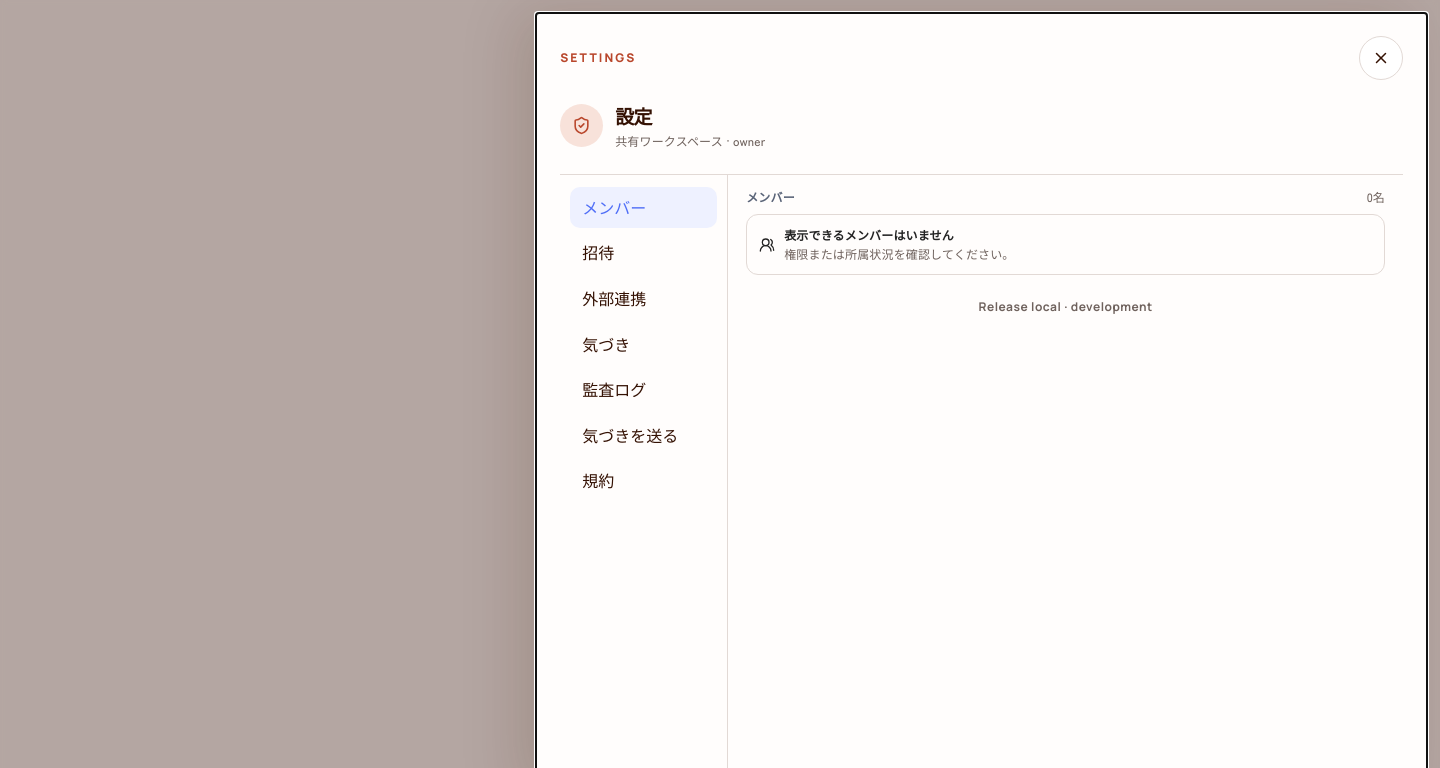
Test case: OperationsPanel stopped integration credentials › tells an owner that a credential stopped because its issuer lost its role
What coordinates should you click on to do the following:
click the button "外部連携"
I would click on:
 (644, 299)
Its box is [570,278,717,320].
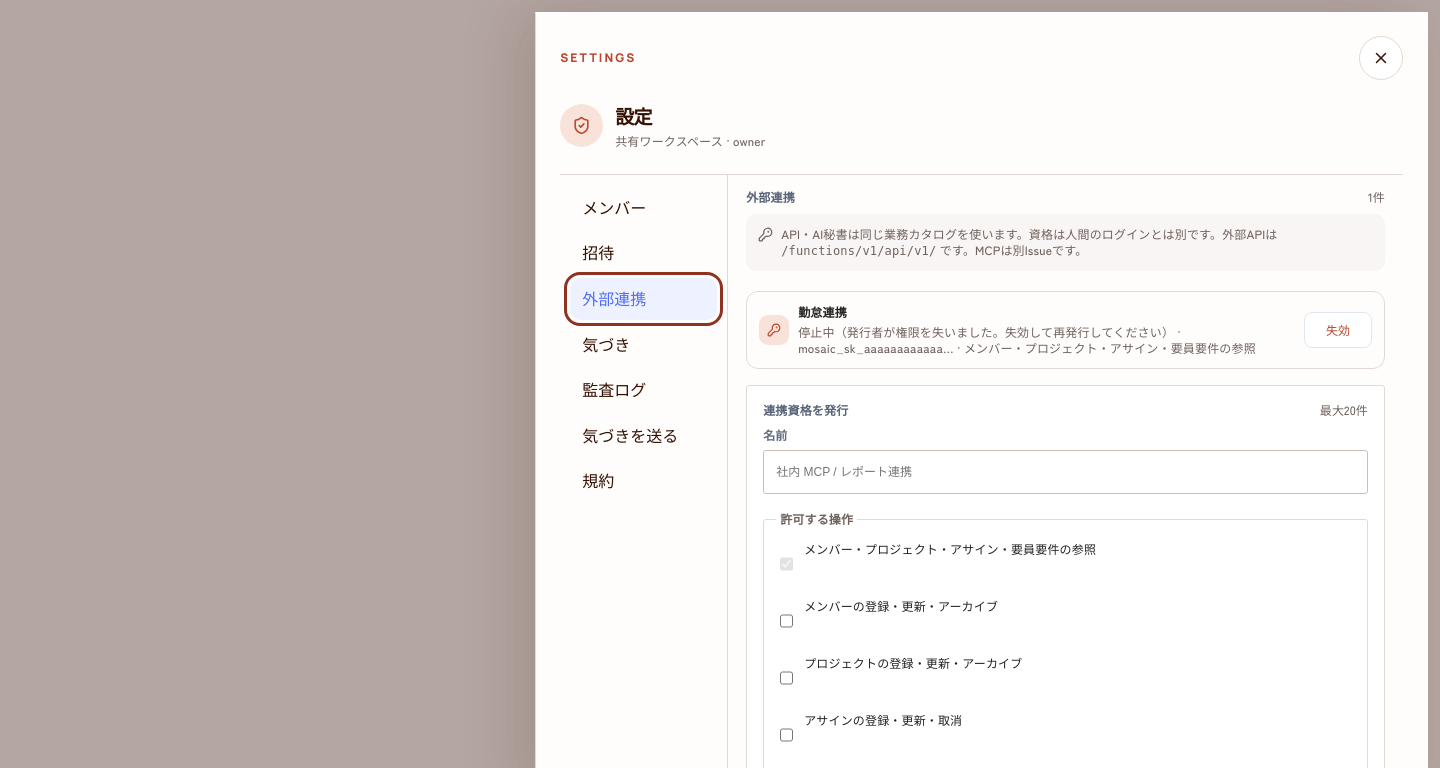
Now the text "発行者が権限を失いました" is shown, box [798,323,1174,340]
